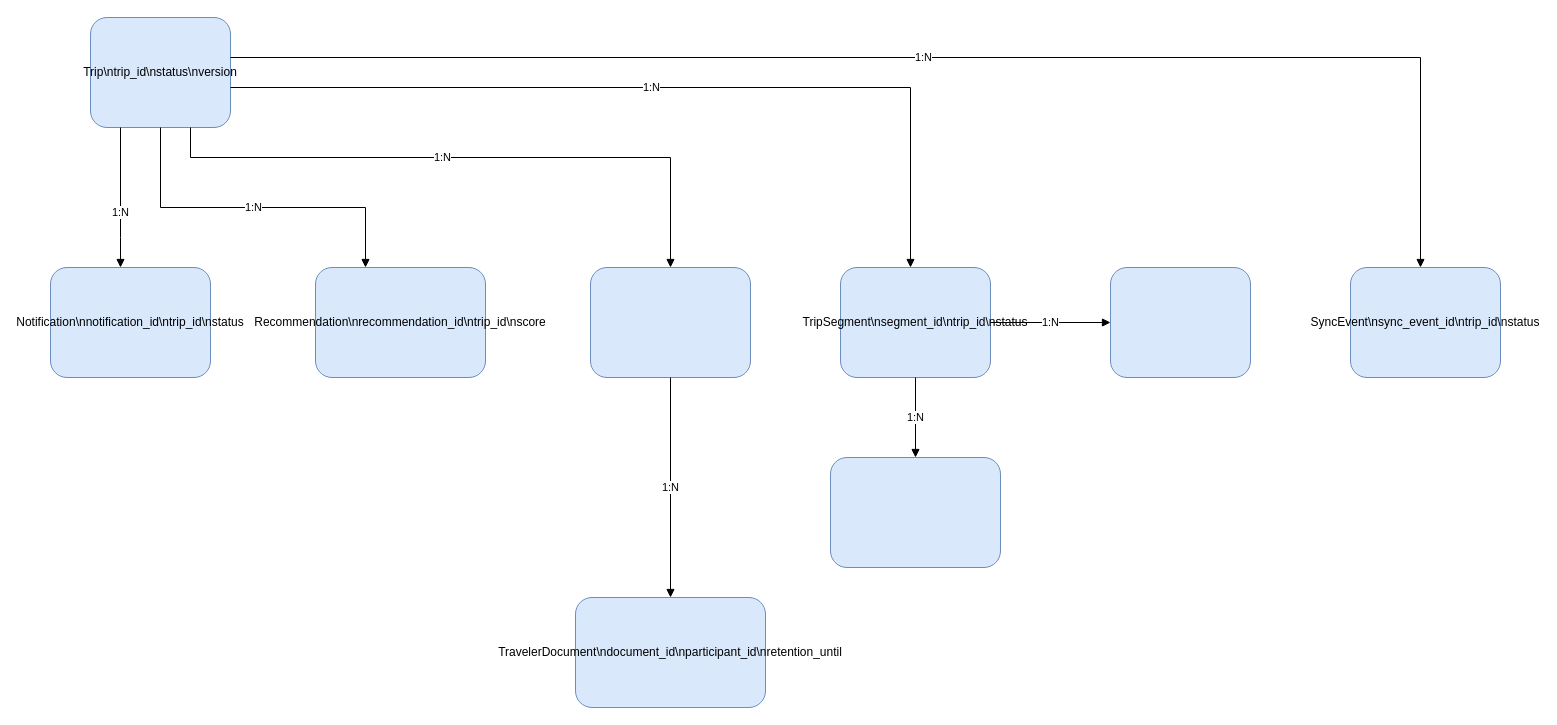
This 1557x725 diagram has some shape labels left out. The centre of each missing label's shape, as x and y in pixels:
"Booking\nbooking_id\nsegment_id\nstatus" goes at [1180,322].
"FlightStatus\nflight_status_id\nsegment_id\nstatus" goes at [915,512].
"TripParticipant\nparticipant_id\ntrip_id\nrole" goes at [670,322].
